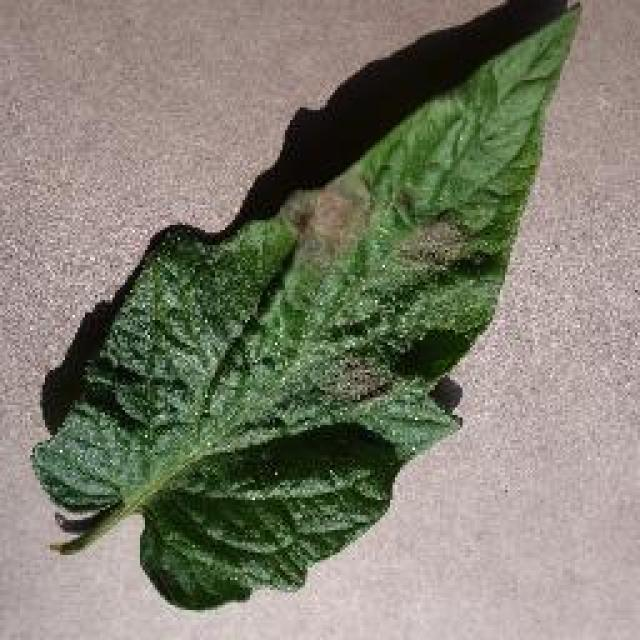Tomato___Late_blight: (30, 0, 582, 615)
